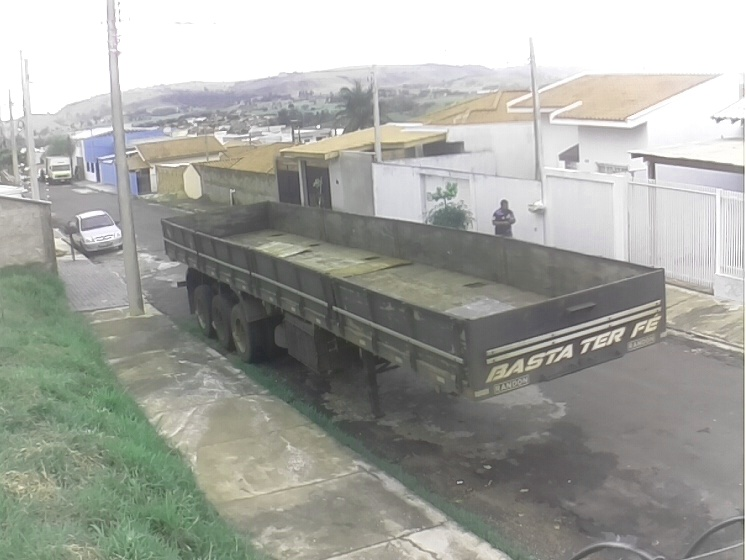person: (490, 198, 517, 240)
